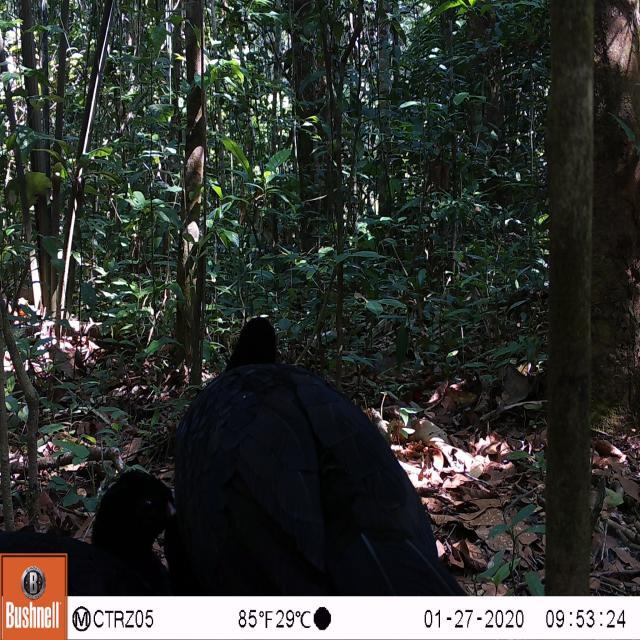Salvins Curassow: (170, 308, 479, 596), (0, 458, 178, 596)
